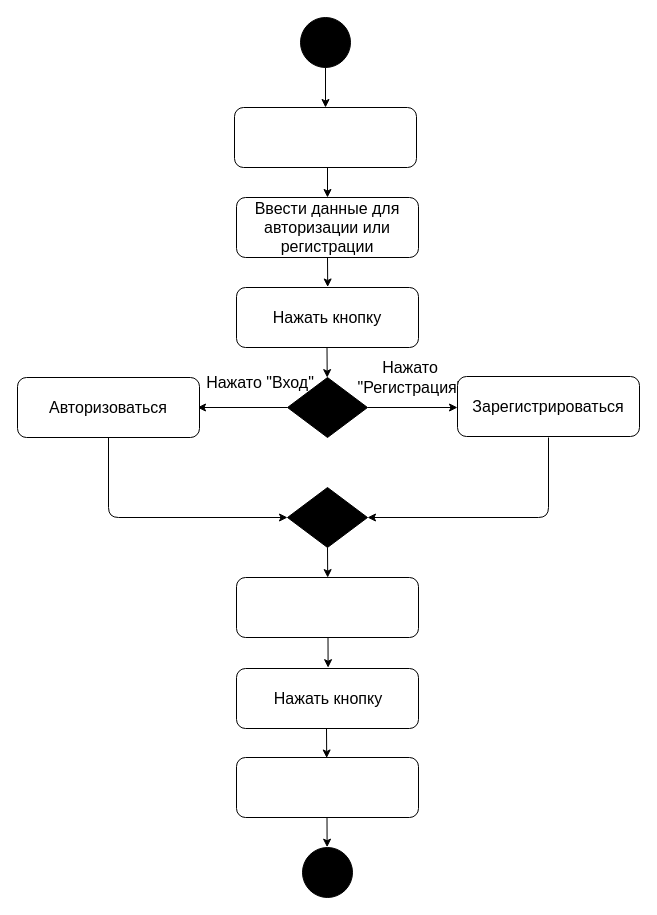
This 657x915 diagram has some shape labels left out. The shapes that lost their labels are listed below. From the top down, each one's centre as x and y in pixels, then its label:
At pixel 325 137: "Отобразить главную страницу".
At pixel 327 607: "Написать комментарий".
At pixel 327 787: "Приложение закрыто".
